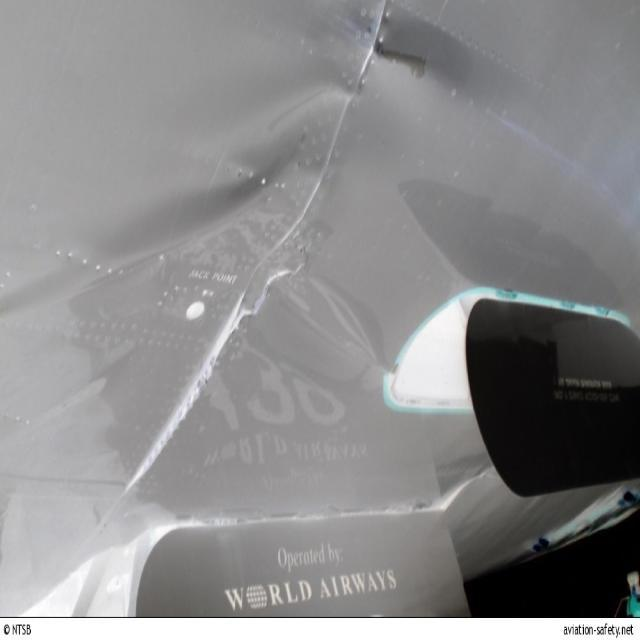crack: (228, 262, 305, 335)
dent: (2, 167, 281, 316), (237, 66, 356, 143)
